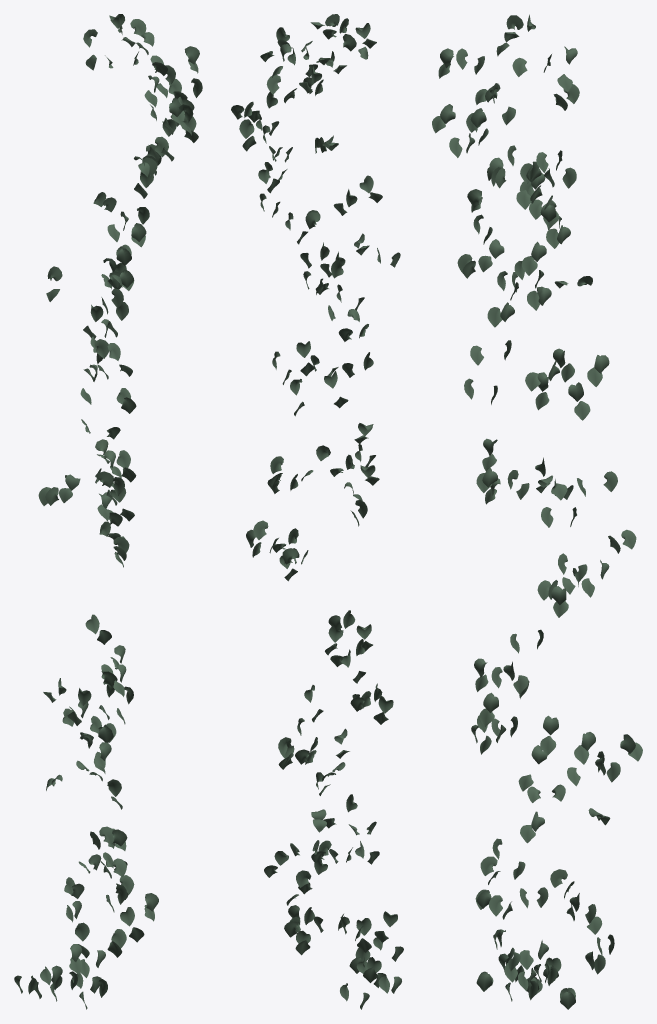
Rendered from Lierre.fbx.
The picture shows the model from 3 angles, left to right: view 1: azimuth 30°, elevation 25°; view 2: azimuth 150°, elevation 25°; view 3: azimuth 270°, elevation 25°; orthographic projection. The views are drawn at different scales.
Parts seen in each view (by area): view 1: leaf; view 2: leaf; view 3: leaf.
Boxes of the visible parts, x1,y1,x2,y2 form: leaf: [14, 14, 202, 1009]; leaf: [231, 14, 403, 1009]; leaf: [432, 14, 642, 1009].
Size of the model in its own units: 2.38 by 13.29 by 2.49.
